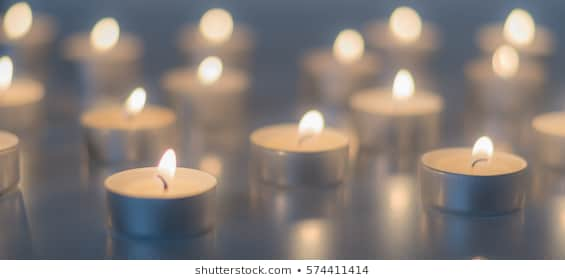Fire: (328, 28, 370, 64), (194, 8, 236, 43), (150, 148, 183, 186), (293, 107, 328, 140), (88, 16, 118, 54), (388, 9, 424, 39), (491, 43, 519, 78), (198, 55, 224, 88), (391, 68, 415, 103), (125, 86, 151, 118), (470, 133, 497, 162), (1, 56, 15, 90)
